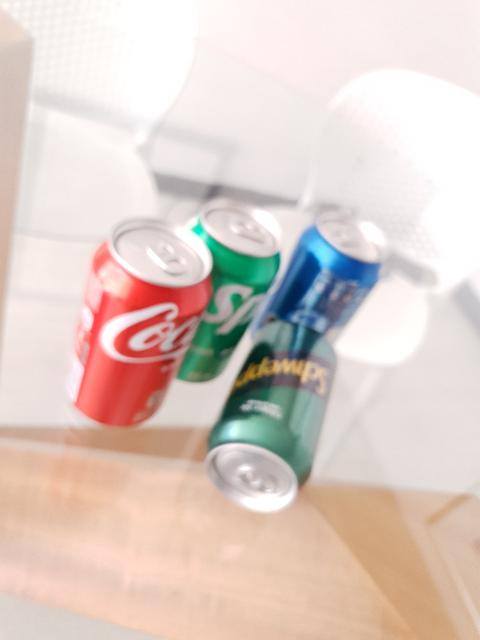coke: (71, 218, 213, 432)
pepsi: (258, 206, 386, 350)
schweppes: (206, 318, 342, 510)
sprite: (191, 198, 279, 384)
